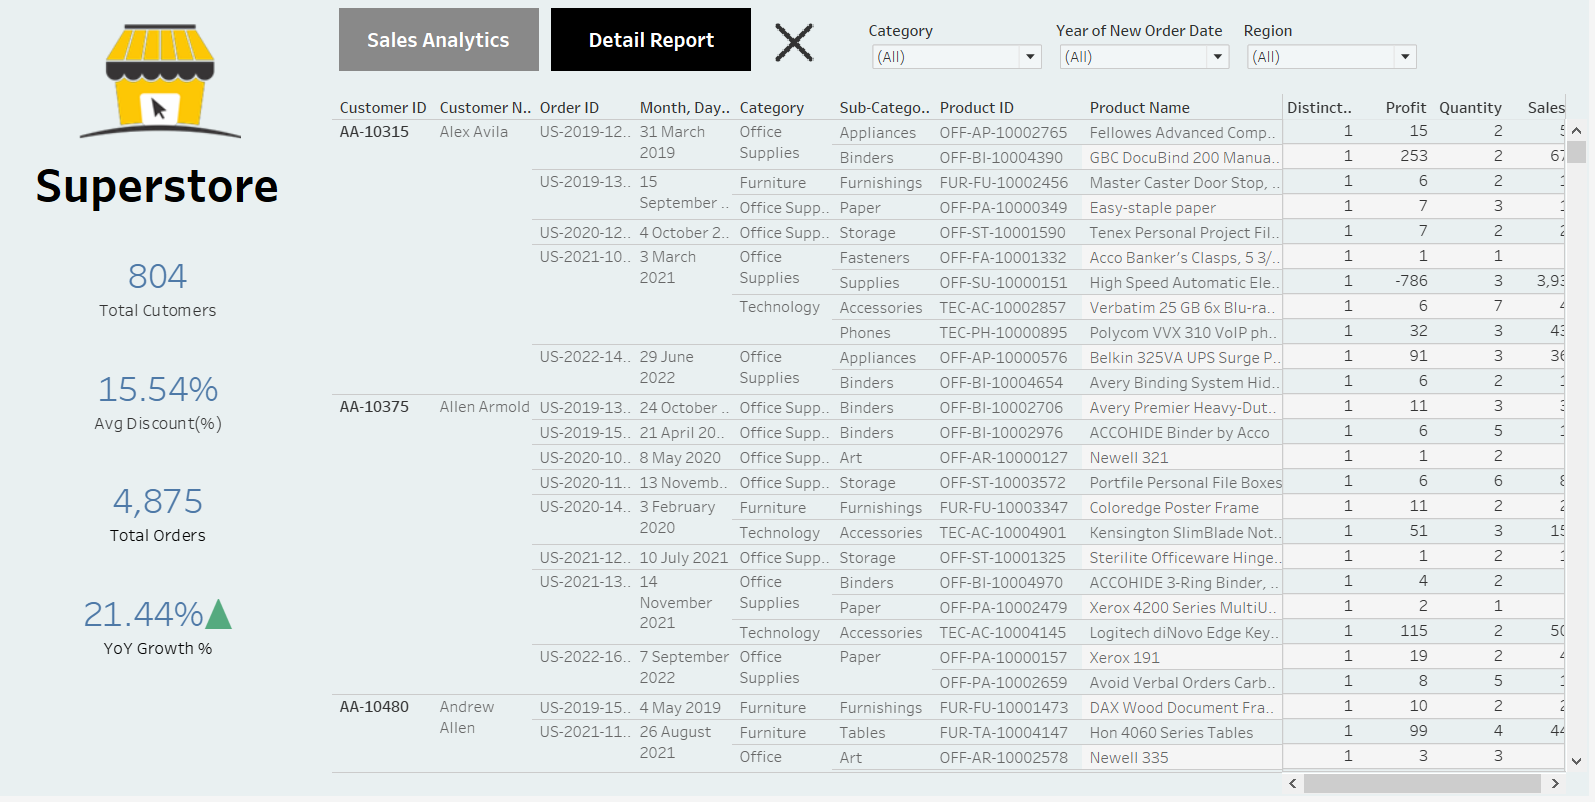

This screenshot's page, from the dashboard's own definition file:
{"tool":"tableau","page":{"name":"Dashboard 2","canvas":[1280,640],"ordinal":1},"visuals":[{"type":"dashboard-object","box":[280,10,160,50]},{"type":"dashboard-object","box":[450,10,160,50]},{"type":"dashboard-object","box":[620,15,50,45]},{"type":"filter","title":"Details Report","param":"[federated.1778arw0wl50w816u0n7v0ulj3g8].[none:Category:nk]","box":[700,15,150,50]},{"type":"filter","title":"Details Report","param":"[federated.1778arw0wl50w816u0n7v0ulj3g8].[yr:Calculation_316096451685707776:ok]","box":[850,15,150,50]},{"type":"filter","title":"Details Report","param":"[federated.1778arw0wl50w816u0n7v0ulj3g8].[none:Region:nk]","box":[1000,15,150,50]},{"type":"image","param":"Image/Store image.png","box":[55,20,165,95]},{"type":"worksheet","title":"Details Report","mark":"Automatic","rows":["Customer ID","Customer Name","Order ID","Order Date","Category","Sub-Category","Product ID","Product Name"],"box":[275,79,1004,560]},{"type":"text","box":[0,120,270,60]},{"type":"worksheet","title":"Total Cutomers","mark":"Automatic","box":[0,195,270,75]},{"type":"worksheet","title":"Avg Discount","mark":"Automatic","box":[0,285,270,75]},{"type":"worksheet","title":"Total orders","mark":"Automatic","box":[0,375,270,75]},{"type":"worksheet","title":"YoY%","mark":"Automatic","cols":["Order Date"],"box":[0,465,270,75]}]}

Visuals, with their boxes in screenshot pixels (x1, y1, x2, y2), scaled from the page's 1280x640 canvas onto the 1595x802 screenshot:
dashboard-object: [349,13,548,75]
dashboard-object: [561,13,760,75]
dashboard-object: [773,19,835,75]
"Details Report" filter: [872,19,1059,81]
"Details Report" filter: [1059,19,1246,81]
"Details Report" filter: [1246,19,1433,81]
image: [69,25,274,144]
"Details Report" worksheet: [343,99,1594,801]
text: [0,150,336,226]
"Total Cutomers" worksheet: [0,244,336,338]
"Avg Discount" worksheet: [0,357,336,451]
"Total orders" worksheet: [0,470,336,564]
"YoY%" worksheet: [0,583,336,677]
